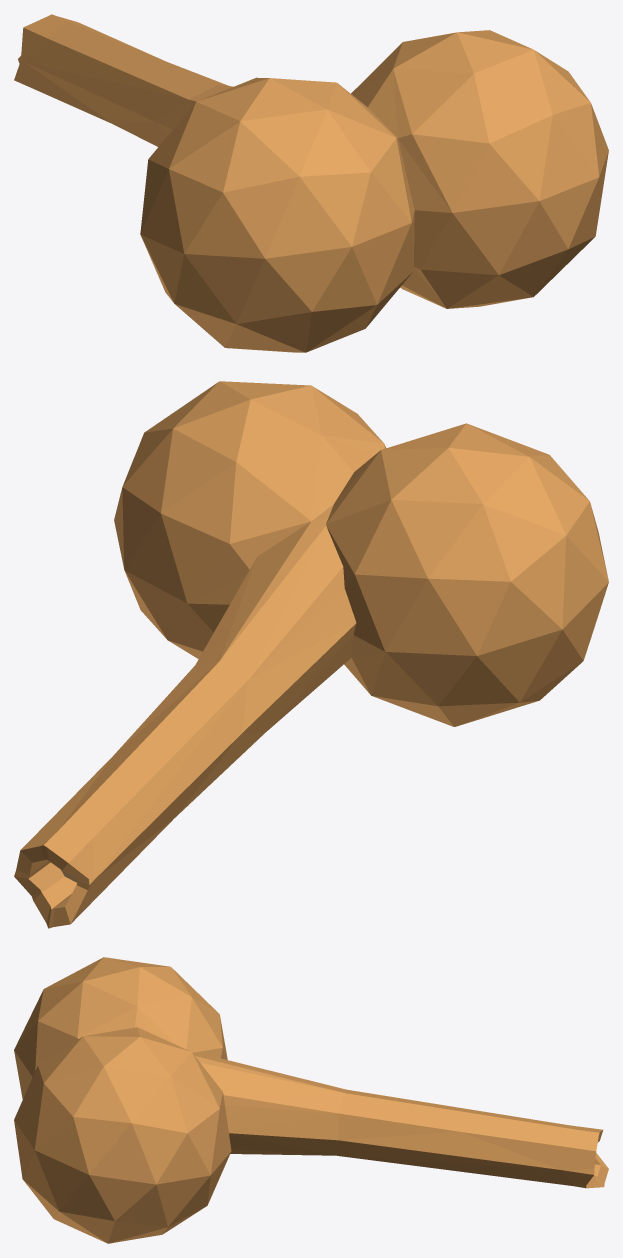
The model's file is Bone 02.fbx.
3 renders of one model, top to bottom at view 1: azimuth 30°, elevation 25°; view 2: azimuth 150°, elevation 25°; view 3: azimuth 270°, elevation 25°, orthographic. The views are drawn at different scales.
Visible parts, largest first — view 1: Bone 02; view 2: Bone 02; view 3: Bone 02.
Boxes of the visible parts, x1,y1,x2,y2 form: Bone 02: (14,14,608,352); Bone 02: (14,381,608,928); Bone 02: (14,957,608,1243).
Size of the model in its own units: 6.4 by 3.71 by 10.16.
